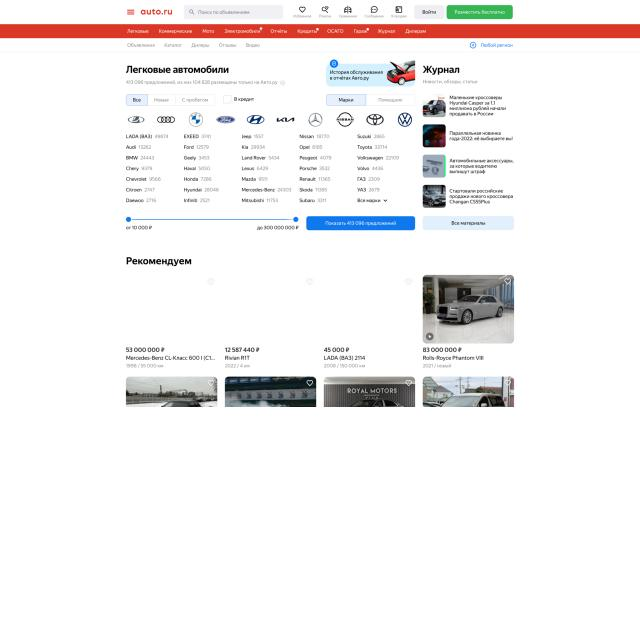input: (182, 3, 285, 20)
logo: (139, 5, 176, 18)
navigation: (125, 26, 431, 37), (122, 3, 138, 20)
slider: (123, 213, 301, 224)
